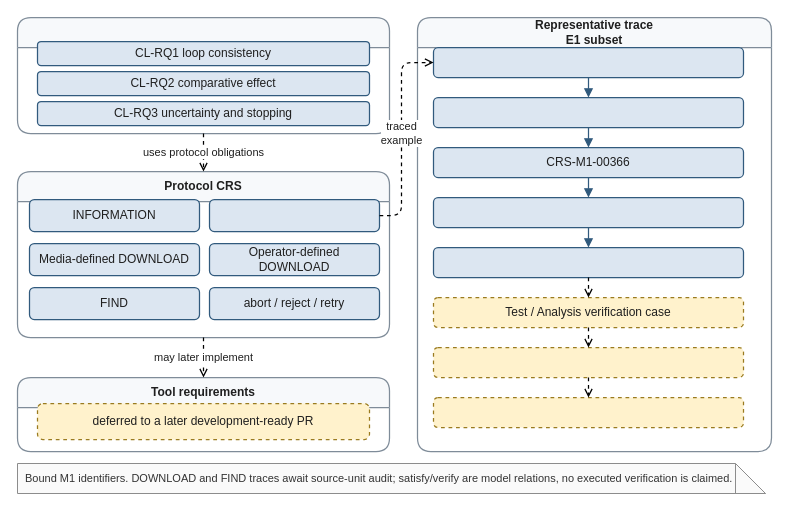
The diagram is 790 pixels wide and 512 high, and some of its shapes have lost their labels. Here are the shapes that lost their labels. From the top down, the box of each, then its label:
(16, 16, 390, 134): Method goals
(432, 46, 744, 78): Source unit: 615A-3 §6.3.2, chart A, E007
(432, 96, 744, 128): CRS-M1-00365
(208, 198, 380, 232): UPLOAD
(432, 196, 744, 228): CRS-M1-00367
(432, 246, 744, 278): Constraint: LUR write order
(432, 346, 744, 378): Tool module (later PR)
(432, 396, 744, 428): Evidence (not executed)
